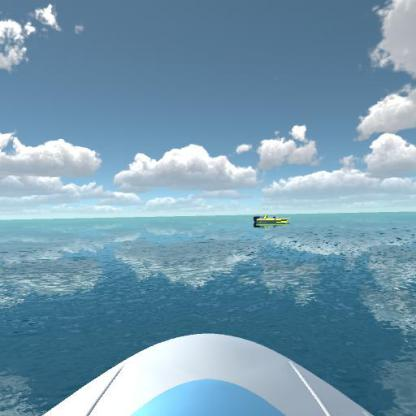usv2: (250, 208, 296, 233)
